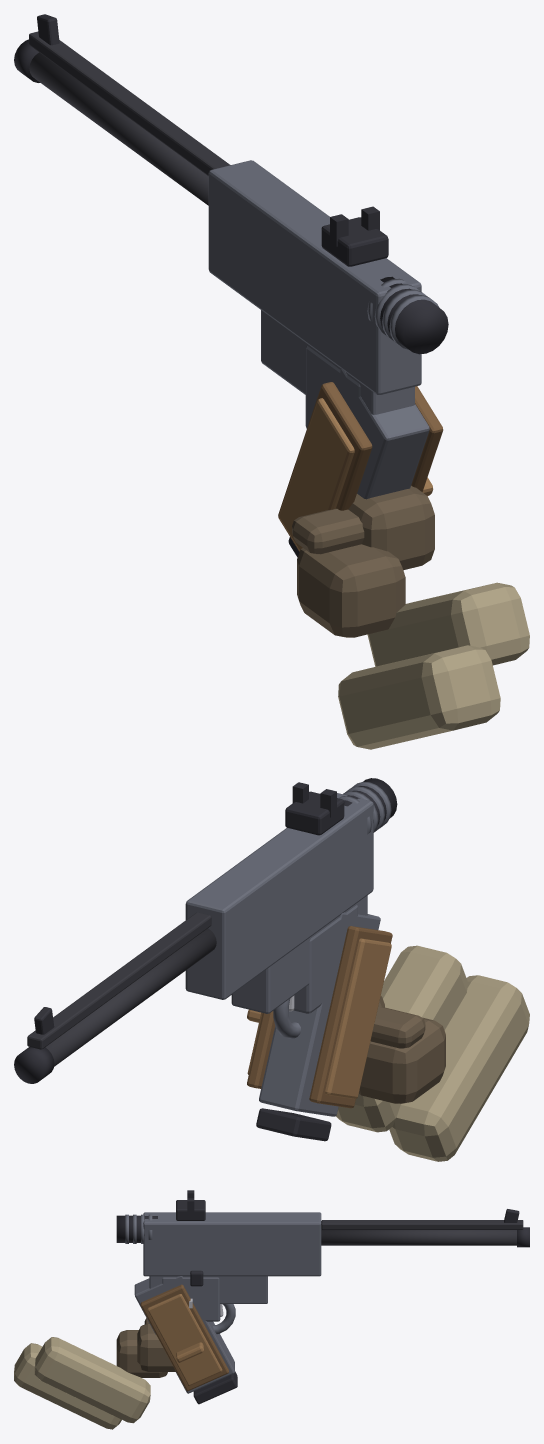
The model's file is topponcha.glb.
The picture shows the model from 3 angles, top to bottom: view 1: azimuth 30°, elevation 25°; view 2: azimuth 150°, elevation 25°; view 3: azimuth 270°, elevation 25°; orthographic projection. The views are drawn at different scales.
Parts seen in each view (by area): view 1: Topponcha; view 2: Topponcha; view 3: Topponcha.
Part boxes in pixels (bbox=[...]): Topponcha: bbox=[14, 14, 529, 749]; Topponcha: bbox=[14, 778, 529, 1161]; Topponcha: bbox=[14, 1190, 529, 1429].
Bounding box in the file's own units: 0.1545 × 0.4477 × 0.8686.
